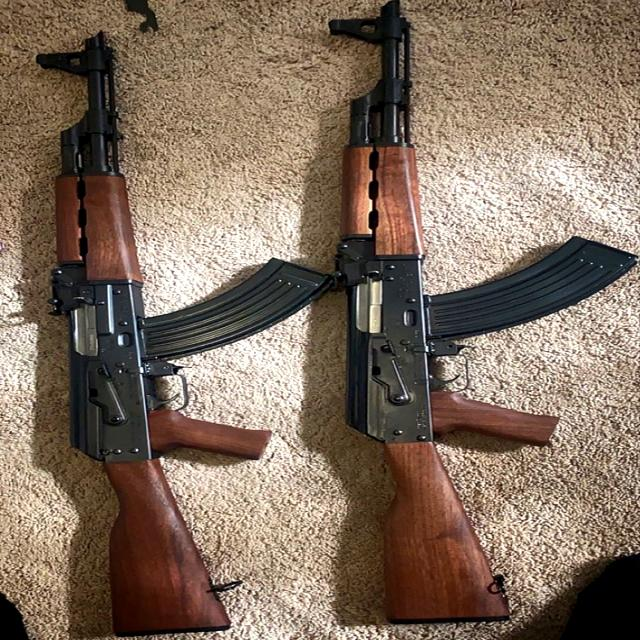ak: (322, 4, 640, 625)
